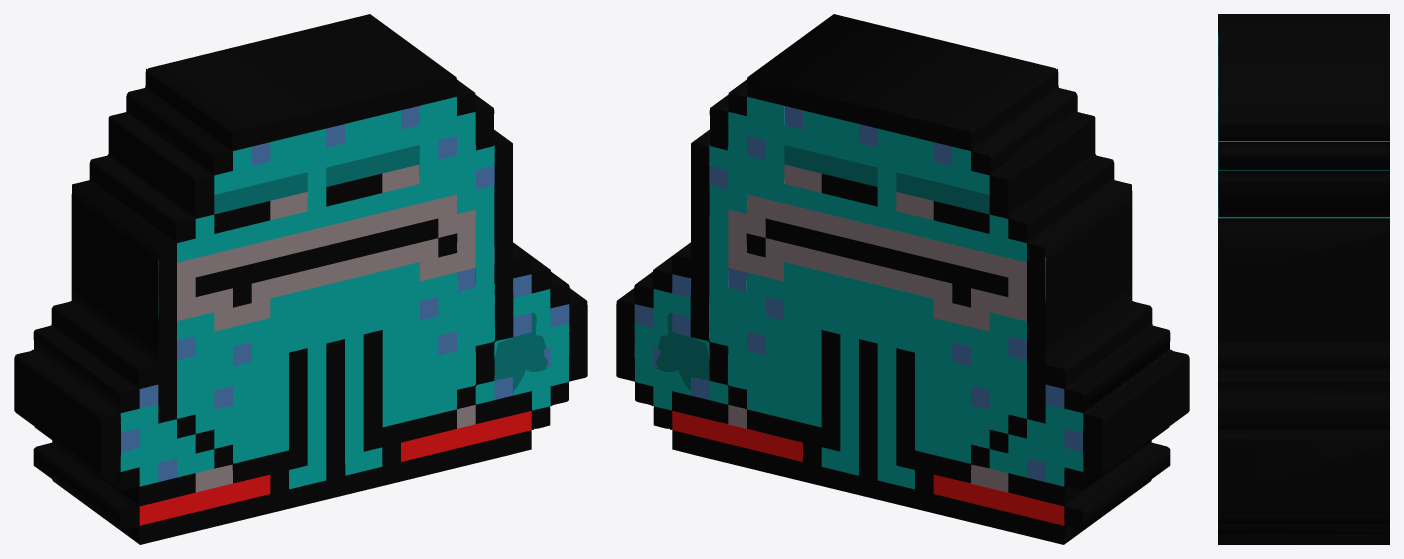
Rendered from Toadz_6865.glb.
3 views of the same model, side by side, from view 1: azimuth 30°, elevation 25°; view 2: azimuth 150°, elevation 25°; view 3: azimuth 270°, elevation 25° (orthographic).
Visible parts, largest first — view 1: Curve; view 2: Curve; view 3: Curve.
Boxes of the visible parts, left/top/right/bottom form: Curve: left=14, top=14, right=587, bottom=544; Curve: left=616, top=14, right=1189, bottom=544; Curve: left=1218, top=14, right=1389, bottom=544.
Bounding box in the file's own units: 3.24 × 2.49 × 1.
